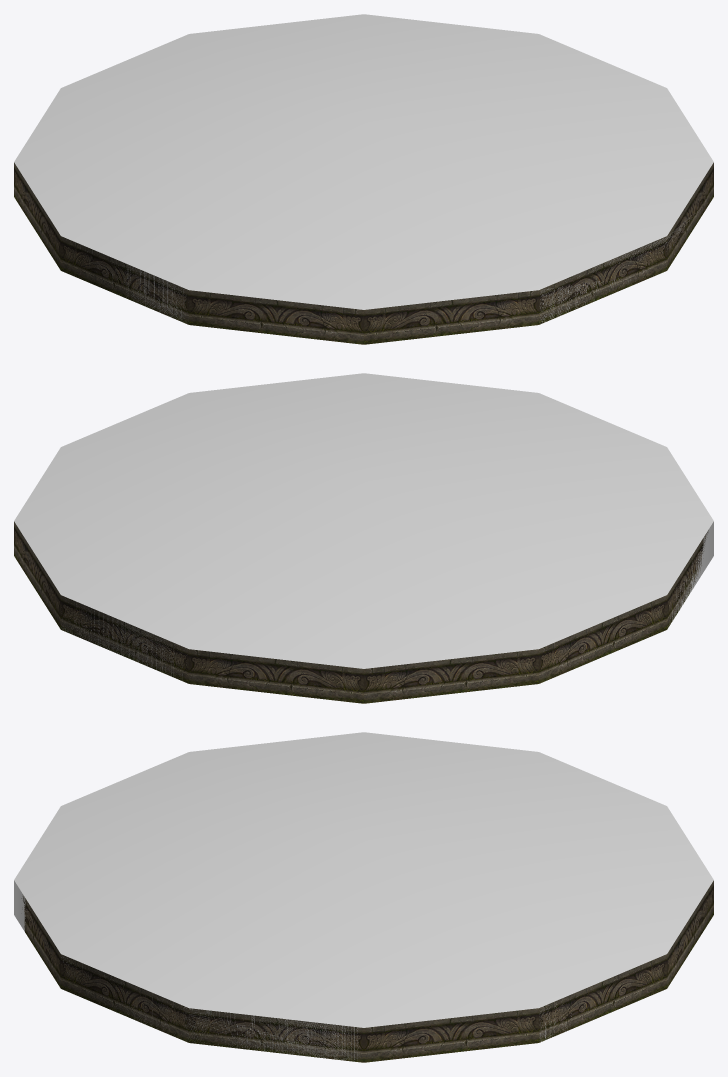
File: YHJ_huantan.FBX
The picture shows the model from 3 angles, top to bottom: view 1: azimuth 30°, elevation 25°; view 2: azimuth 150°, elevation 25°; view 3: azimuth 270°, elevation 25°; orthographic projection.
Visible parts, largest first — view 1: YHJ_huantan-col, YHJ_huantan; view 2: YHJ_huantan-col, YHJ_huantan; view 3: YHJ_huantan-col, YHJ_huantan.
Boxes of the visible parts, x1,y1,x2,y2 form: YHJ_huantan-col: [14, 14, 713, 323]; YHJ_huantan: [14, 162, 713, 344]; YHJ_huantan-col: [14, 373, 713, 680]; YHJ_huantan: [14, 521, 708, 703]; YHJ_huantan-col: [14, 732, 713, 1059]; YHJ_huantan: [21, 880, 713, 1062].
Bounding box in the file's own units: 36.46 × 4.32 × 36.46.
